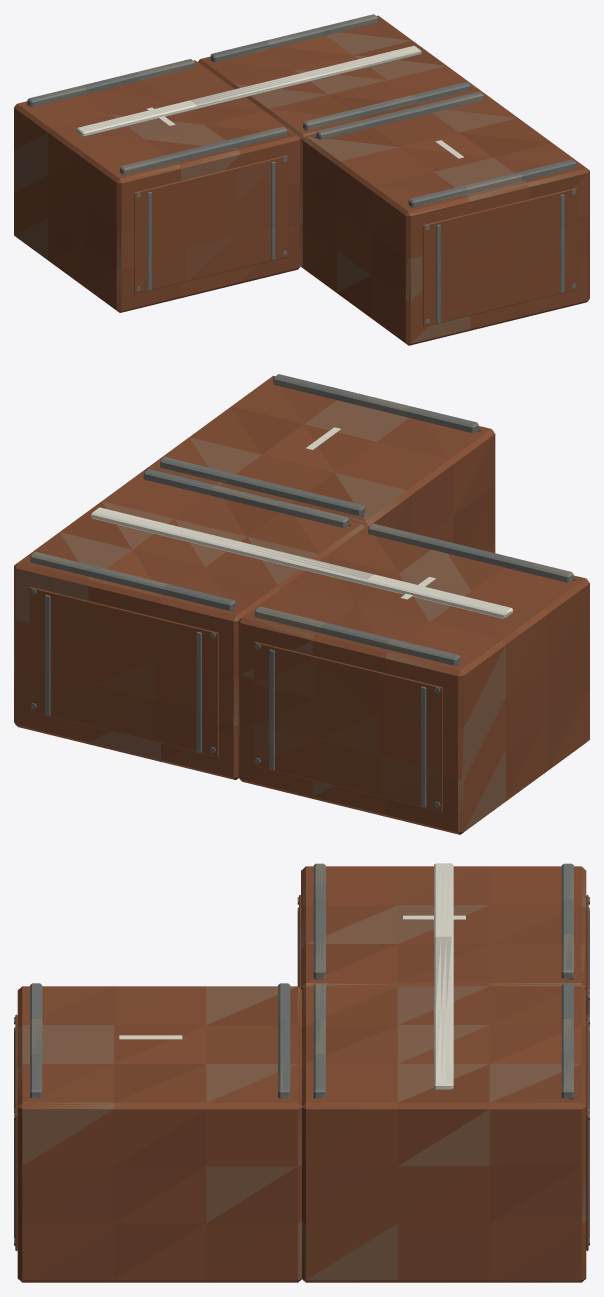
Rendered from l-cargo.glb.
The picture shows the model from 3 angles, top to bottom: view 1: azimuth 30°, elevation 25°; view 2: azimuth 150°, elevation 25°; view 3: azimuth 270°, elevation 25°; orthographic projection. The views are drawn at different scales.
Parts seen in each view (by area): view 1: Welded L shell.002, Welded L shell, Recessed welded steel panel.004, Recessed welded steel panel, Welded L shell.001, One welded connecting brace, L top seam.003, L top seam.004, L top seam.001, L top seam.005, L top seam, L top seam.002 (+4 smaller); view 2: Welded L shell, Welded L shell.001, Welded L shell.002, Recessed welded steel panel.003, Recessed welded steel panel.001, One welded connecting brace, L top seam.001, L top seam.002, L top seam, L top seam.003, L top seam.004, L top seam.005 (+4 smaller); view 3: Welded L shell.002, Welded L shell.001, Welded L shell, One welded connecting brace, L top seam, L top seam.002, L top seam.003, L top seam.004, L top seam.005, L top seam.001, Recessed welded steel panel.003, Recessed welded steel panel.004.
Boxes of the visible parts, x1,y1,x2,y2 form: Welded L shell.002: [303, 93, 589, 345]; Welded L shell: [14, 60, 300, 312]; Recessed welded steel panel.004: [422, 188, 577, 326]; Recessed welded steel panel: [134, 155, 288, 294]; Welded L shell.001: [198, 15, 483, 267]; One welded connecting brace: [76, 45, 421, 136]; L top seam.003: [210, 14, 378, 62]; L top seam.004: [408, 159, 576, 207]; L top seam.001: [27, 59, 195, 106]; L top seam.005: [316, 91, 483, 139]; L top seam: [120, 126, 287, 174]; L top seam.002: [303, 82, 470, 130]; Welded L shell: [238, 525, 589, 834]; Welded L shell.001: [14, 470, 364, 779]; Welded L shell.002: [144, 375, 495, 552]; Recessed welded steel panel.003: [29, 586, 218, 756]; Recessed welded steel panel.001: [254, 641, 442, 811]; One welded connecting brace: [91, 507, 512, 618]; L top seam.001: [254, 606, 460, 665]; L top seam.002: [143, 469, 349, 527]; L top seam: [368, 523, 573, 582]; L top seam.003: [30, 552, 235, 610]; L top seam.004: [273, 374, 478, 433]; L top seam.005: [160, 457, 365, 515]; Welded L shell.002: [17, 986, 301, 1282]; Welded L shell.001: [302, 986, 586, 1282]; Welded L shell: [301, 866, 586, 989]; One welded connecting brace: [434, 863, 453, 1089]; L top seam: [313, 863, 325, 978]; L top seam.002: [313, 983, 325, 1098]; L top seam.003: [561, 983, 573, 1098]; L top seam.004: [30, 983, 42, 1098]; L top seam.005: [278, 983, 290, 1098]; L top seam.001: [561, 863, 573, 978]; Recessed welded steel panel.003: [586, 1014, 588, 1250]; Recessed welded steel panel.004: [15, 1014, 17, 1250].
Size of the model in its own units: 3.21 by 1.19 by 3.25.
